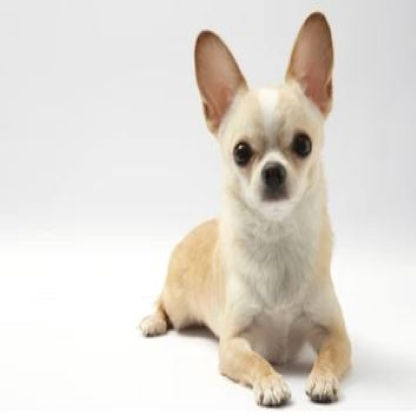chihuahua: (138, 7, 357, 411)
